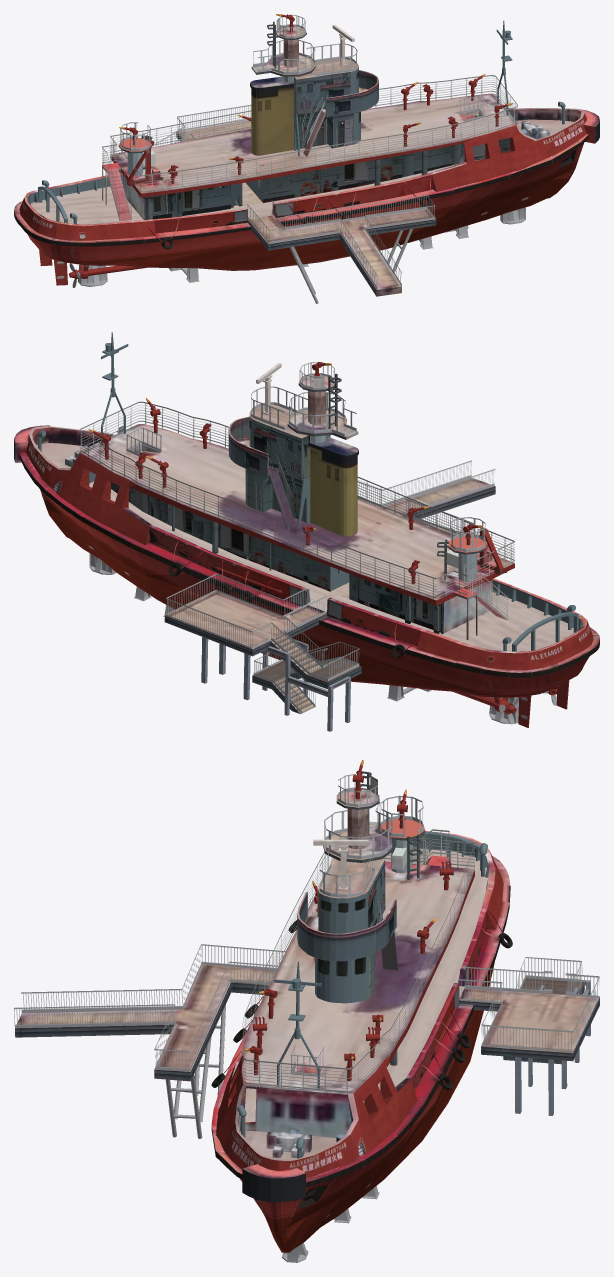
File: fireboat.glb
The picture shows the model from 3 angles, top to bottom: view 1: azimuth 30°, elevation 25°; view 2: azimuth 150°, elevation 25°; view 3: azimuth 270°, elevation 25°; orthographic projection. The views are drawn at different scales.
Visible parts, largest first — view 1: B406241670901063A0_B406241670901063A0_002_0, B406241670901063A0_B406241670901063A0_001_0, B406241670901063A0_B406241670901063A0_003_0, B406241670901063A0_B406241670901063A0_004_0, B406241670901063A0_B406241670901063A0_006_0, B406241670901063A0_B406241670901063A0_005_0; view 2: B406241670901063A0_B406241670901063A0_001_0, B406241670901063A0_B406241670901063A0_002_0, B406241670901063A0_B406241670901063A0_003_0, B406241670901063A0_B406241670901063A0_005_0, B406241670901063A0_B406241670901063A0_004_0, B406241670901063A0_B406241670901063A0_006_0; view 3: B406241670901063A0_B406241670901063A0_002_0, B406241670901063A0_B406241670901063A0_004_0, B406241670901063A0_B406241670901063A0_001_0, B406241670901063A0_B406241670901063A0_003_0, B406241670901063A0_B406241670901063A0_005_0, B406241670901063A0_B406241670901063A0_006_0.
Boxes of the visible parts, x1=… form: B406241670901063A0_B406241670901063A0_002_0: x1=14, y1=14, x2=599, y2=296; B406241670901063A0_B406241670901063A0_001_0: x1=14, y1=21, x2=583, y2=278; B406241670901063A0_B406241670901063A0_003_0: x1=28, y1=33, x2=594, y2=303; B406241670901063A0_B406241670901063A0_004_0: x1=38, y1=14, x2=599, y2=289; B406241670901063A0_B406241670901063A0_006_0: x1=102, y1=75, x2=517, y2=219; B406241670901063A0_B406241670901063A0_005_0: x1=120, y1=15, x2=484, y2=289; B406241670901063A0_B406241670901063A0_001_0: x1=34, y1=373, x2=599, y2=724; B406241670901063A0_B406241670901063A0_002_0: x1=14, y1=343, x2=599, y2=712; B406241670901063A0_B406241670901063A0_003_0: x1=24, y1=383, x2=582, y2=727; B406241670901063A0_B406241670901063A0_005_0: x1=126, y1=362, x2=495, y2=713; B406241670901063A0_B406241670901063A0_004_0: x1=14, y1=332, x2=578, y2=731; B406241670901063A0_B406241670901063A0_006_0: x1=80, y1=401, x2=514, y2=618; B406241670901063A0_B406241670901063A0_002_0: x1=17, y1=760, x2=598, y2=1252; B406241670901063A0_B406241670901063A0_004_0: x1=15, y1=763, x2=590, y2=1262; B406241670901063A0_B406241670901063A0_001_0: x1=231, y1=771, x2=590, y2=1252; B406241670901063A0_B406241670901063A0_003_0: x1=15, y1=792, x2=599, y2=1212; B406241670901063A0_B406241670901063A0_005_0: x1=14, y1=774, x2=599, y2=1076; B406241670901063A0_B406241670901063A0_006_0: x1=241, y1=829, x2=474, y2=1094.
Size of the model in its own units: 38.88 by 17.24 by 26.29.
Materials: 6 (6 with a texture image).
